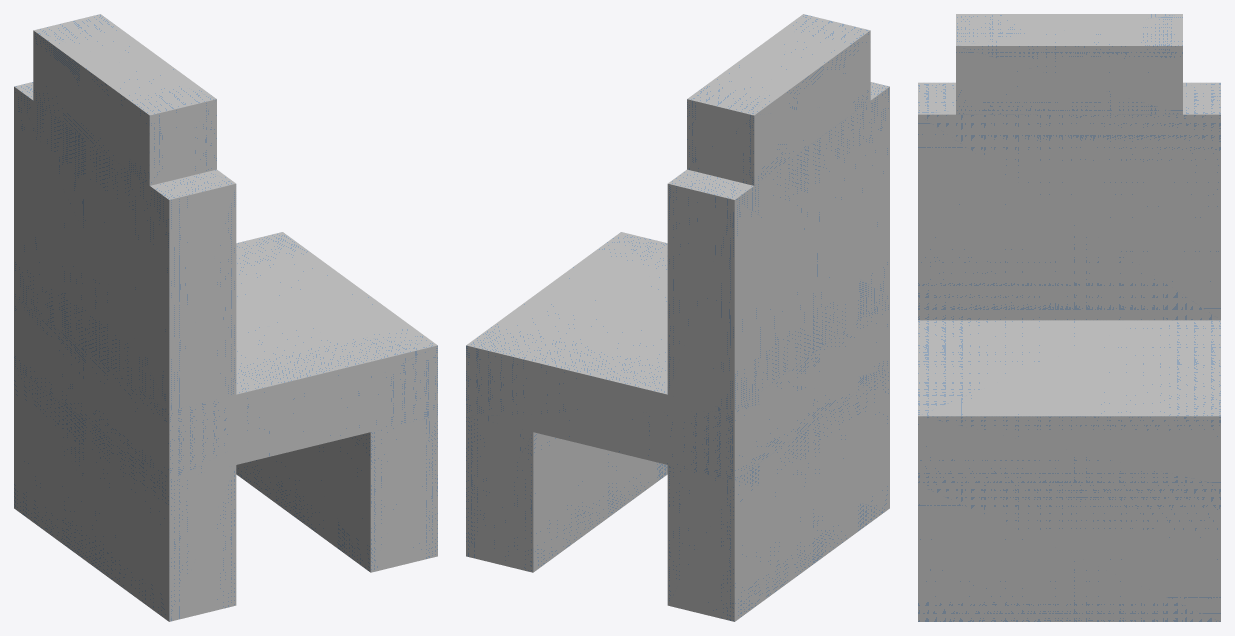
The model's file is stone-chair.fbx.
The picture shows the model from 3 angles, left to right: view 1: azimuth 30°, elevation 25°; view 2: azimuth 150°, elevation 25°; view 3: azimuth 270°, elevation 25°; orthographic projection. The views are drawn at different scales.
Visible parts, largest first — view 1: generated; view 2: generated; view 3: generated.
Part boxes in pixels (x1,y1,x2,y2): generated: [14, 14, 437, 621]; generated: [466, 14, 889, 621]; generated: [918, 14, 1220, 621].
Size of the model in its own units: 40 by 70 by 40.
1 material, 1 textured.
